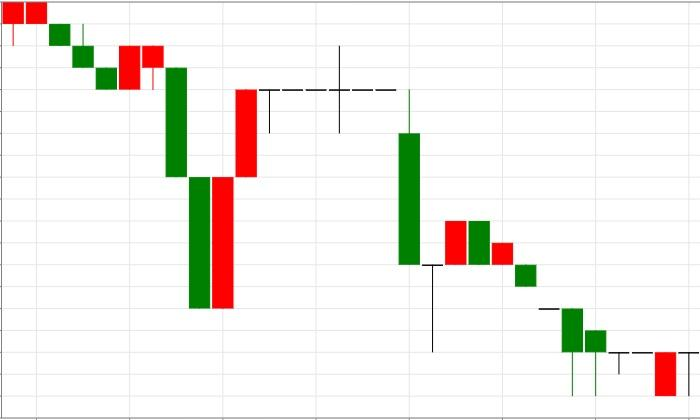morning_star_rise: (259, 44, 468, 353)
